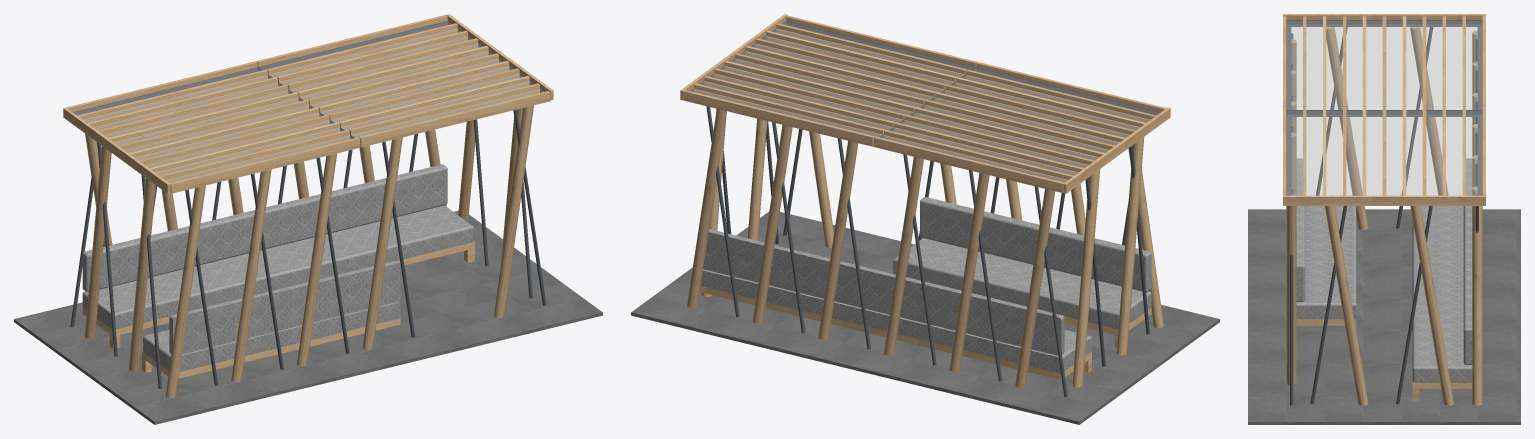
File: pergola_new.glb
3 views of the same model, side by side, from view 1: azimuth 30°, elevation 25°; view 2: azimuth 150°, elevation 25°; view 3: azimuth 270°, elevation 25° (orthographic). The views are drawn at different scales.
Parts seen in each view (by area): view 1: Mesh35_Carpet_Berber_Pattern_Gray_0, Mesh35_Slate_0, Group47, Group1, Mesh32_Translucent_Glass_Gray_0, Mesh1_Translucent_Glass_Gray_0, Model, Group3, Group18, Group21, Group9, Group15 (+18 smaller); view 2: Mesh35_Carpet_Berber_Pattern_Gray_0, Mesh35_Slate_0, Group47, Group1, Mesh32_Translucent_Glass_Gray_0, Mesh1_Translucent_Glass_Gray_0, Model, Group39, Group36, Group12, Group27, Group6 (+18 smaller); view 3: Mesh35_Slate_0, Mesh1_Translucent_Glass_Gray_0, Mesh35_Carpet_Berber_Pattern_Gray_0, Mesh32_Translucent_Glass_Gray_0, Group1, Group47, Mesh1_M_7016_Antracietgrijs_0, Group49, Group42, Group45, Group33, Mesh32_M_7016_Antracietgrijs_0 (+11 smaller).
Boxes of the visible parts, x1,y1,x2,y2 form: Mesh35_Carpet_Berber_Pattern_Gray_0: (82,164,473,371); Mesh35_Slate_0: (14,210,602,424); Group47: (256,15,550,147); Group1: (66,61,360,193); Mesh32_Translucent_Glass_Gray_0: (259,21,543,137); Mesh1_Translucent_Glass_Gray_0: (74,67,353,182); Model: (82,241,474,378); Group3: (165,185,205,398); Group18: (362,137,402,349); Group21: (494,105,533,317); Group9: (231,169,271,382); Group15: (297,153,336,366); Mesh35_Carpet_Berber_Pattern_Gray_0: (700,197,1151,373); Mesh35_Slate_0: (631,211,1219,424); Group47: (683,15,977,146); Group1: (873,62,1166,192); Mesh32_Translucent_Glass_Gray_0: (691,21,974,136); Mesh1_Translucent_Glass_Gray_0: (881,67,1160,182); Model: (699,286,1151,379); Group39: (1072,169,1100,387); Group36: (1116,137,1144,355); Group12: (1015,189,1055,387); Group27: (818,141,858,339); Group6: (949,173,989,371); Mesh35_Slate_0: (1248,209,1520,424); Mesh1_Translucent_Glass_Gray_0: (1287,20,1481,109); Mesh35_Carpet_Berber_Pattern_Gray_0: (1296,158,1472,382); Mesh32_Translucent_Glass_Gray_0: (1287,110,1481,195); Group1: (1283,15,1485,106); Group47: (1283,105,1485,195); Mesh1_M_7016_Antracietgrijs_0: (1286,20,1482,110); Group49: (1283,195,1485,205); Group42: (1410,206,1453,405); Group45: (1325,206,1368,405); Group33: (1472,186,1482,405); Mesh32_M_7016_Antracietgrijs_0: (1286,110,1482,195).
Size of the model in its own units: 5.9 by 2.76 by 3.2.
7 materials, 5 textured.
